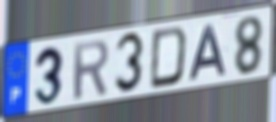3: (111, 29, 149, 97), (33, 43, 68, 110)
8: (232, 14, 265, 77)
A: (187, 22, 229, 83)
D: (148, 24, 190, 91)
R: (71, 37, 111, 103)
